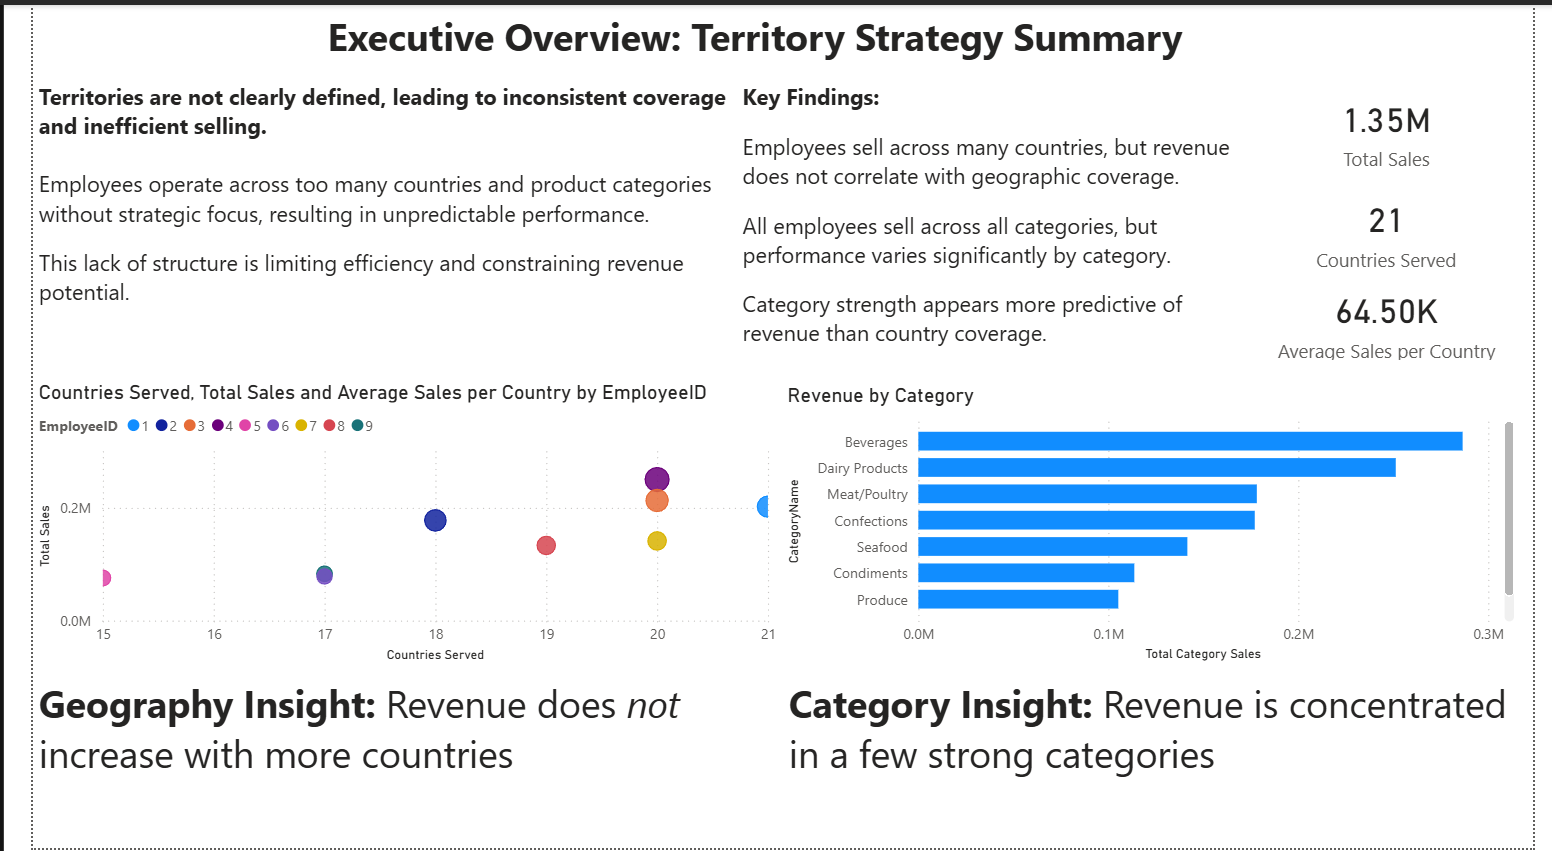

What the dashboard file says about the page in this screenshot:
{"tool":"powerbi","page":{"name":"Executive Overview","canvas":[1280,720],"ordinal":0},"visuals":[{"type":"textbox","box":[246.5,0,741.6,60.8],"z":0},{"type":"card","fields":{"Values":["customers.Total Sales"]},"box":[1034.9,60.8,241.1,92.8],"z":0,"group":"g1"},{"type":"textbox","box":[600.7,60.8,441.7,248.6],"z":1000},{"type":"card","fields":{"Values":["customers.Countries Served"]},"box":[1035.1,152.6,240.7,80.2],"z":1000,"group":"g1"},{"type":"card","fields":{"Values":["customers.Average Sales per Country"]},"box":[1034.9,232.6,241.1,75.8],"z":2000,"group":"g1"},{"type":"scatterChart","fields":{"Size":["customers.Opportunity Efficiency"],"X":["customers.Countries Served"],"Series":["orders and amounts.orders.EmployeeID"],"Y":["customers.Order Total (SQL Logic)"]},"box":[0,319.8,639.5,245.3],"z":2000},{"type":"barChart","title":"Revenue by Category","fields":{"Y":["customers.Total Category Sales"],"Category":["products.CategoryName"]},"box":[639.5,323.3,630.2,241.9],"z":3000},{"type":"textbox","box":[0,570,640,150],"z":4000},{"type":"textbox","box":[640,570,640,150],"z":5000},{"type":"textbox","box":[0,60.5,601.2,248.8],"z":6000},{"type":"group","id":"g1","title":"Group 1","box":[1034.9,60.8,241.1,247.5],"z":7000}]}

Visuals, with their boxes in screenshot pixels (x1, y1, x2, y2), scaled from the page's 1280x720 canvas onto the 1552x851 screenshot:
textbox: {"left": 299, "top": 0, "right": 1198, "bottom": 72}
card - customers.Total Sales: {"left": 1255, "top": 72, "right": 1547, "bottom": 182}
textbox: {"left": 728, "top": 72, "right": 1264, "bottom": 366}
card - customers.Countries Served: {"left": 1255, "top": 180, "right": 1547, "bottom": 275}
card - customers.Average Sales per Country: {"left": 1255, "top": 275, "right": 1547, "bottom": 365}
scatterChart - customers.Opportunity Efficiency x customers.Countries Served: {"left": 0, "top": 378, "right": 775, "bottom": 668}
"Revenue by Category" barChart: {"left": 775, "top": 382, "right": 1540, "bottom": 668}
textbox: {"left": 0, "top": 674, "right": 776, "bottom": 850}
textbox: {"left": 776, "top": 674, "right": 1551, "bottom": 850}
textbox: {"left": 0, "top": 72, "right": 729, "bottom": 366}
"Group 1" group: {"left": 1255, "top": 72, "right": 1547, "bottom": 364}
